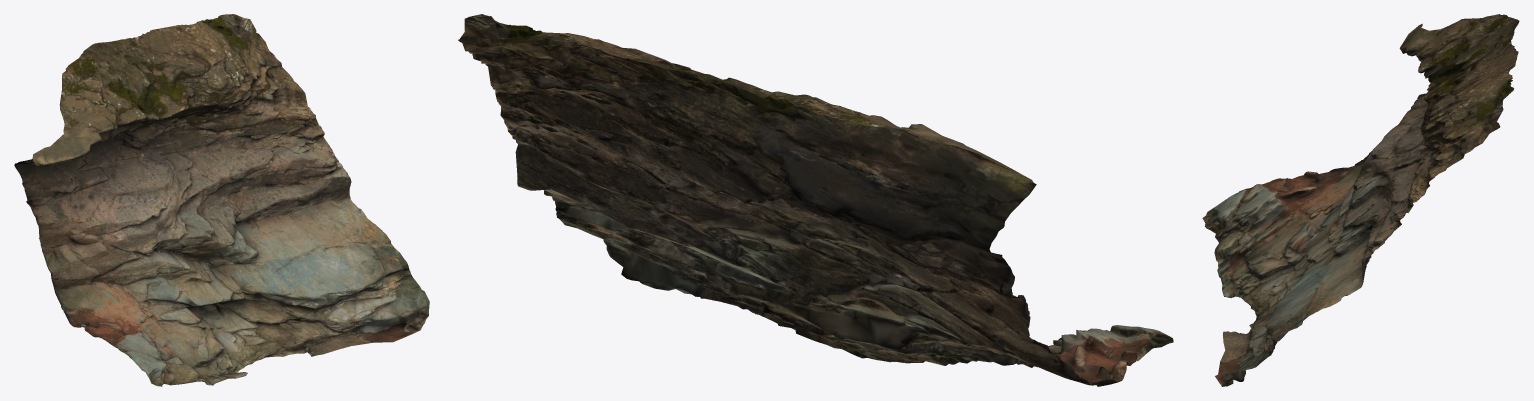
Rendered from rock_face_01.glb.
3 views of the same model, side by side, from view 1: azimuth 30°, elevation 25°; view 2: azimuth 150°, elevation 25°; view 3: azimuth 270°, elevation 25° (orthographic). The views are drawn at different scales.
Visible parts, largest first — view 1: rock_face_01; view 2: rock_face_01; view 3: rock_face_01.
Part boxes in pixels (<box>): rock_face_01: <box>14,14,429,386</box>; rock_face_01: <box>458,14,1173,386</box>; rock_face_01: <box>1202,14,1519,386</box>.
Size of the model in its own units: 4.95 by 3.56 by 3.83.
Materials: 1 (1 with a texture image).
